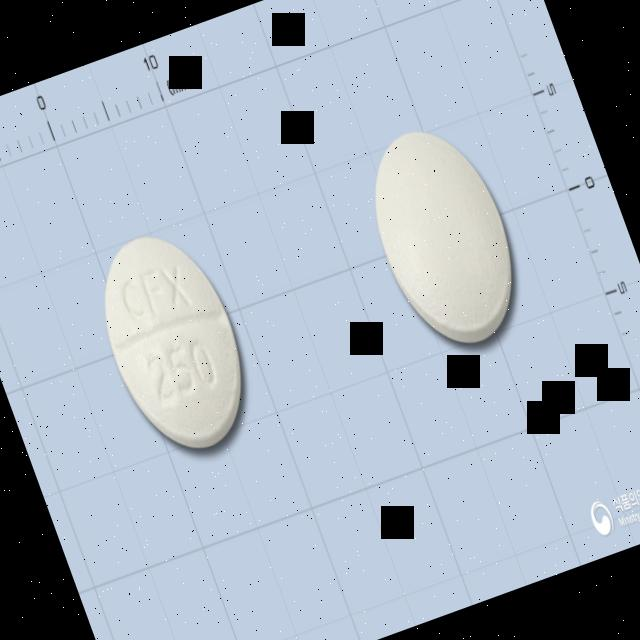Ciprofloxacin Tab- Pharma: (75, 208, 278, 476)
